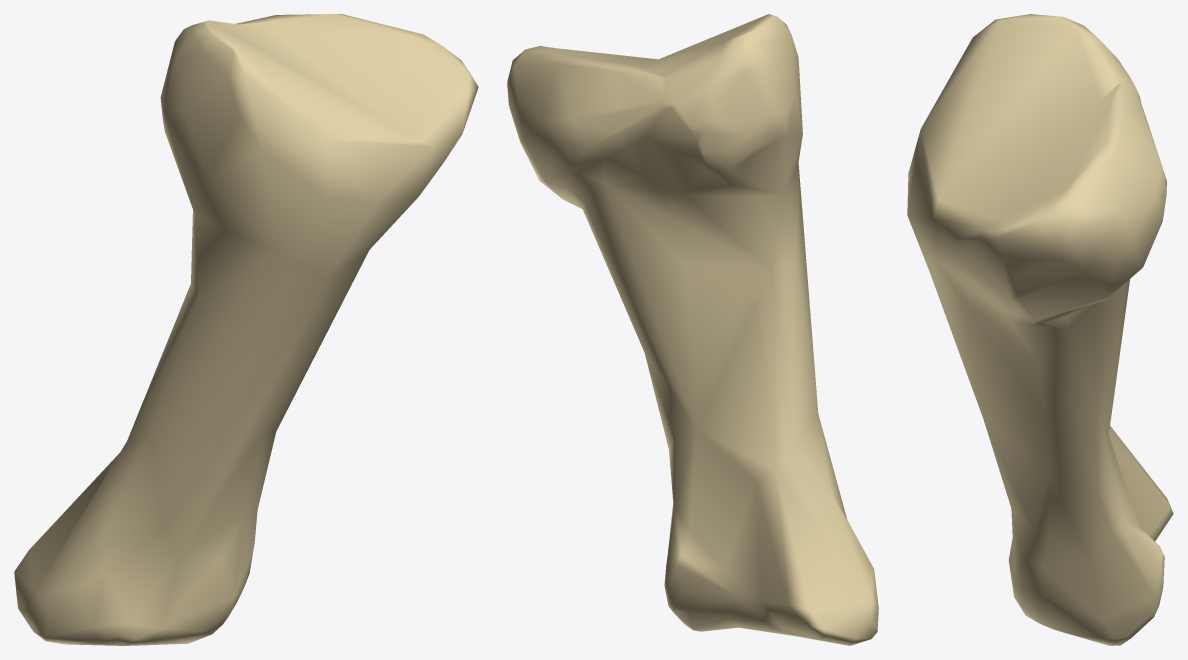
3 renders of one model, left to right at view 1: azimuth 30°, elevation 25°; view 2: azimuth 150°, elevation 25°; view 3: azimuth 270°, elevation 25°, orthographic. The views are drawn at different scales.
Parts seen in each view (by area): view 1: 右侧第五趾近节趾骨; view 2: 右侧第五趾近节趾骨; view 3: 右侧第五趾近节趾骨.
Part boxes in pixels (box(x1,y1,x2,y2)): 右侧第五趾近节趾骨: box(14, 14, 478, 645); 右侧第五趾近节趾骨: box(507, 14, 878, 645); 右侧第五趾近节趾骨: box(907, 14, 1173, 645).
Bounding box in the file's own units: 0.027 × 0.0395 × 0.0154.
